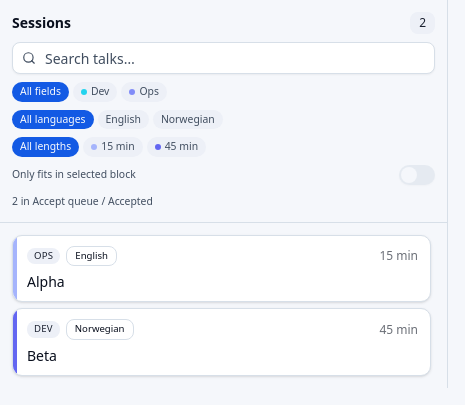
it: SessionCatalog › filters sessions when searching
Type "beta" into the search field named "search sessions".
click(224, 58); type("beta")  # box [12, 42, 435, 74]
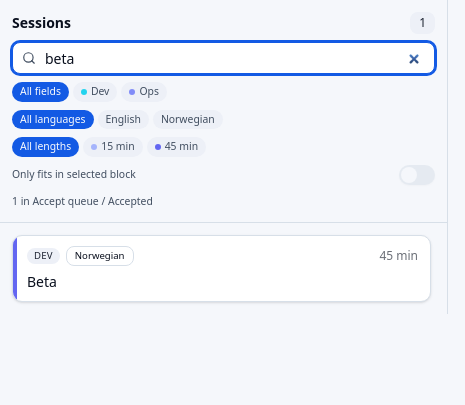
Expected: the heading "Beta" is shown, [27, 272, 57, 291]
Now the heading "Alpha" is gone
